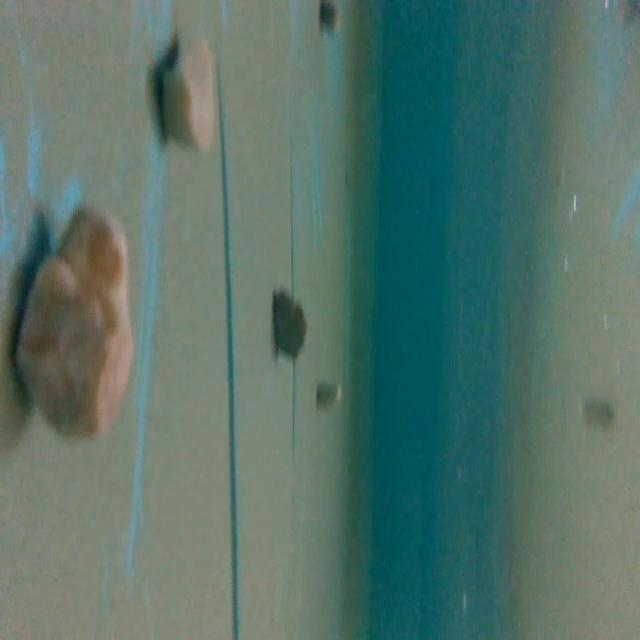rock: (15, 191, 137, 450), (156, 29, 223, 158), (272, 286, 308, 366), (315, 379, 339, 409)
